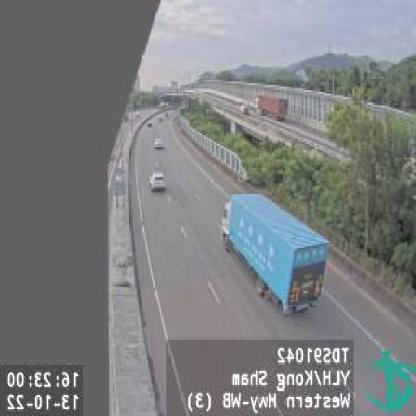Car: (148, 168, 167, 194), (154, 138, 164, 152)
Truck: (219, 194, 330, 317)
